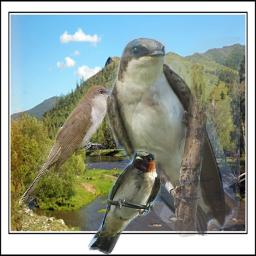Cuckoo: (19, 85, 121, 205)
Swallow: (106, 37, 240, 238), (87, 149, 161, 255)
